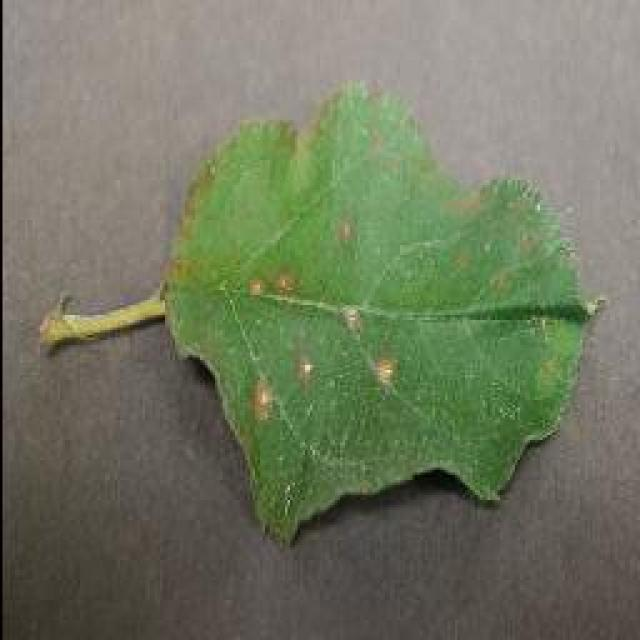apple healthy: (38, 75, 608, 547)
